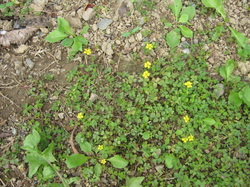oxalis: (117, 64, 225, 139)
